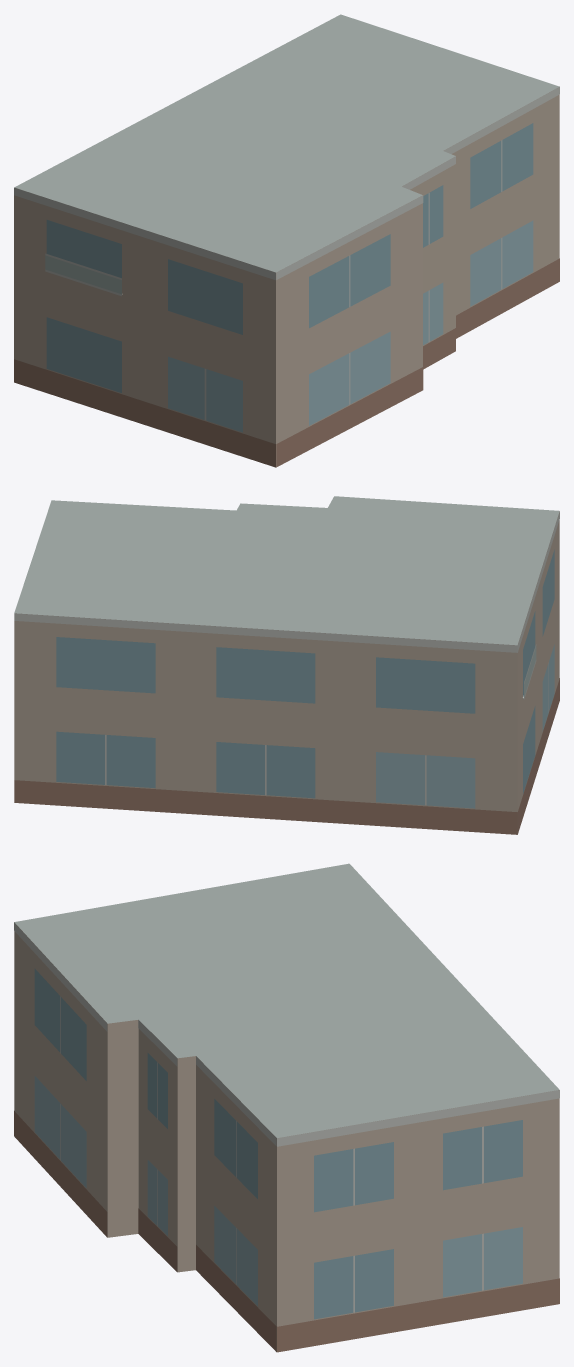
File: survey-upis-32851341.glb
3 views of the same model, one above another, from view 1: azimuth 30°, elevation 25°; view 2: azimuth 150°, elevation 25°; view 3: azimuth 270°, elevation 25° (orthographic). The views are drawn at different scales.
Parts seen in each view (by area): view 1: survey-upis-32851341.tmp; view 2: survey-upis-32851341.tmp; view 3: survey-upis-32851341.tmp.
Boxes of the visible parts, x1=… form: survey-upis-32851341.tmp: x1=14, y1=14, x2=559, y2=467; survey-upis-32851341.tmp: x1=14, y1=496, x2=559, y2=834; survey-upis-32851341.tmp: x1=14, y1=863, x2=559, y2=1352.
Size of the model in its own units: 16.79 by 6.1 by 14.1.
